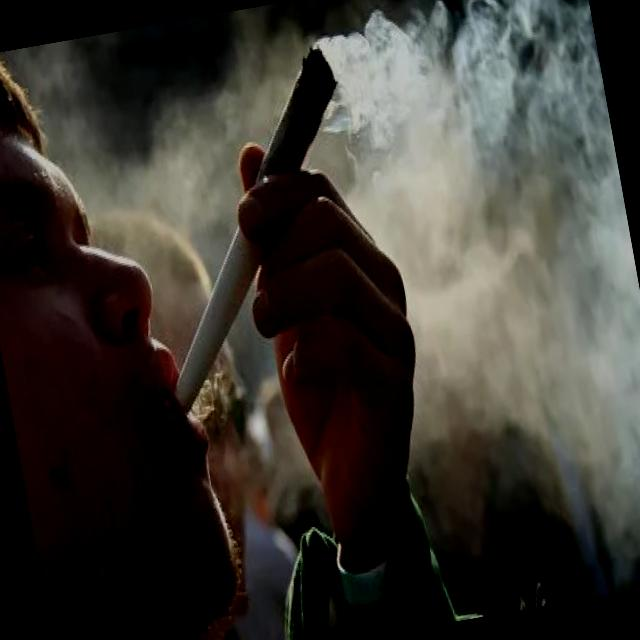smoke: (119, 41, 390, 409)
